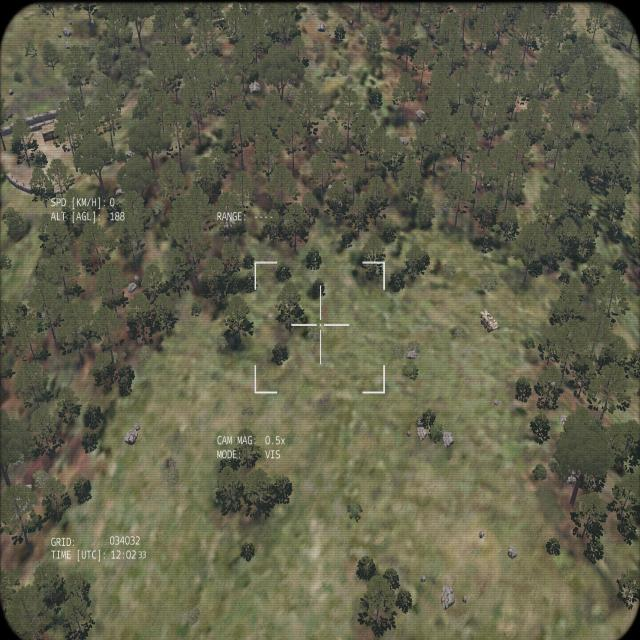apc: (479, 307, 499, 333)
